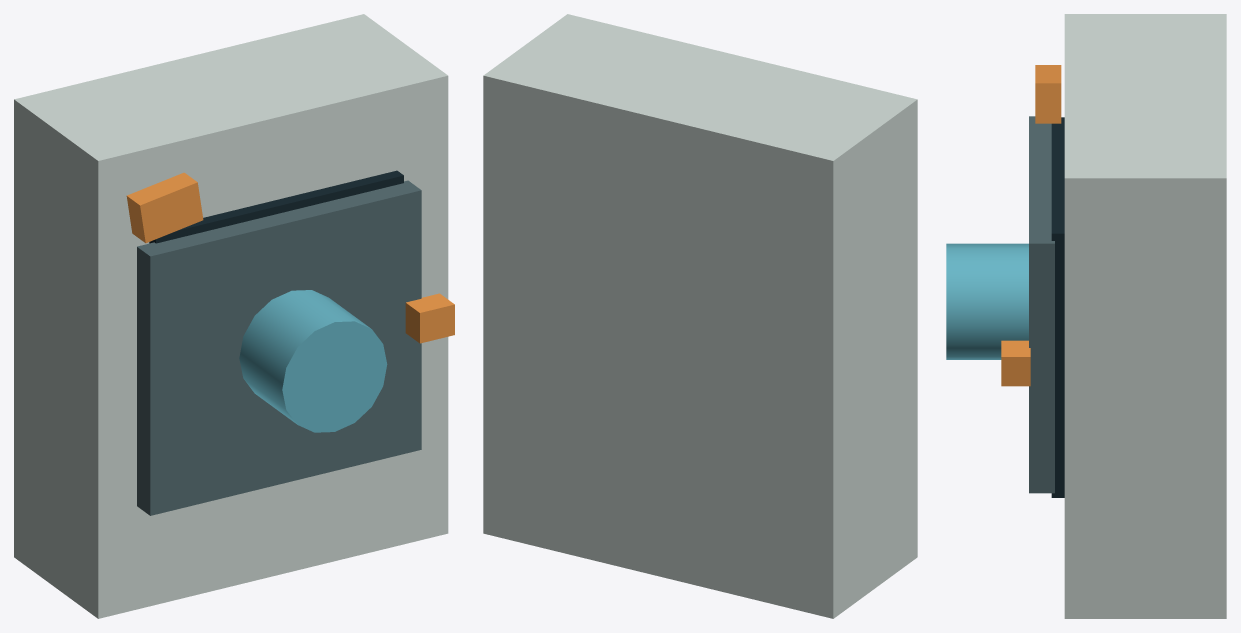
File: pump-service-module.glb
3 views of the same model, side by side, from view 1: azimuth 30°, elevation 25°; view 2: azimuth 150°, elevation 25°; view 3: azimuth 270°, elevation 25° (orthographic). The views are drawn at different scales.
Parts seen in each view (by area): view 1: service_frame, service_cover, pump_cartridge, power_disconnect, service_bay, latch; view 2: service_frame; view 3: service_frame, service_cover, pump_cartridge, service_bay, power_disconnect, latch.
Boxes of the visible parts, x1,y1,x2,y2 form: service_frame: [14, 14, 448, 618]; service_cover: [137, 180, 421, 515]; pump_cartridge: [239, 290, 387, 432]; power_disconnect: [126, 172, 203, 243]; service_bay: [149, 170, 403, 243]; latch: [405, 293, 454, 343]; service_frame: [483, 14, 917, 618]; service_frame: [1064, 14, 1226, 618]; service_cover: [1029, 116, 1054, 493]; pump_cartridge: [946, 243, 1028, 359]; service_bay: [1051, 117, 1064, 497]; power_disconnect: [1035, 65, 1061, 123]; latch: [1001, 340, 1030, 386].
Bounding box in the file's own units: 1.2 × 1.5 × 0.865.
